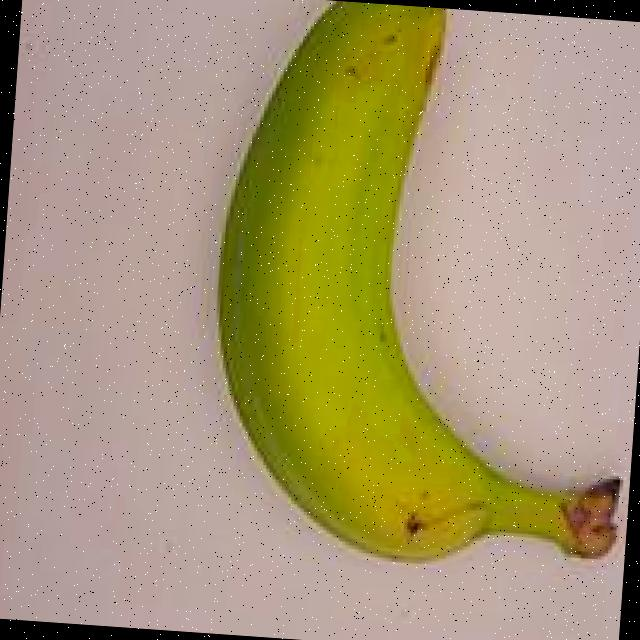Unripe: (187, 0, 640, 597)
